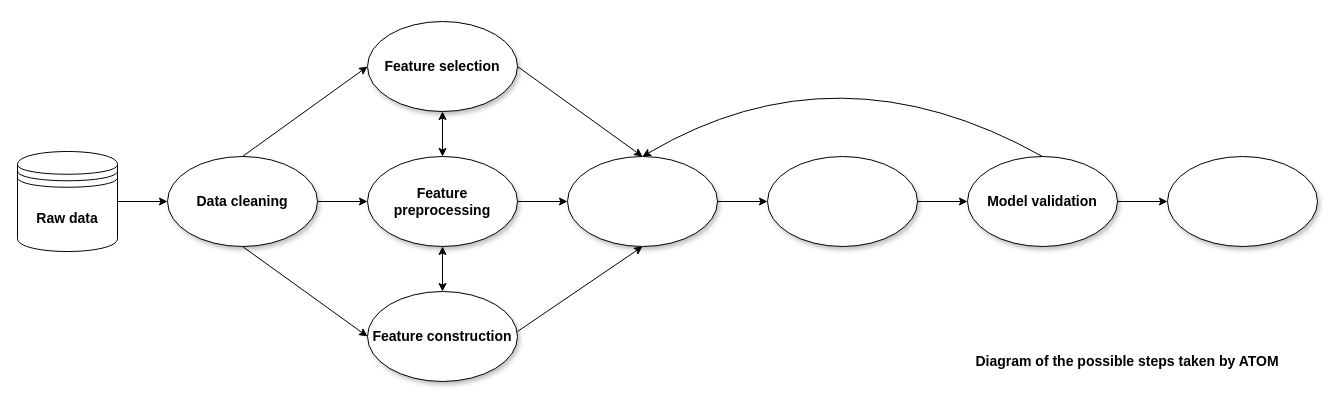
Some shapes in this 1341 by 406 pixel diagram are drawn without their labels. Here are the shapes that lost their labels. From the top down, the centre of each, then its label:
the point at 643,203: Model selection
the point at 843,203: Hyperparameter optimization
the point at 1243,203: Analyze results
